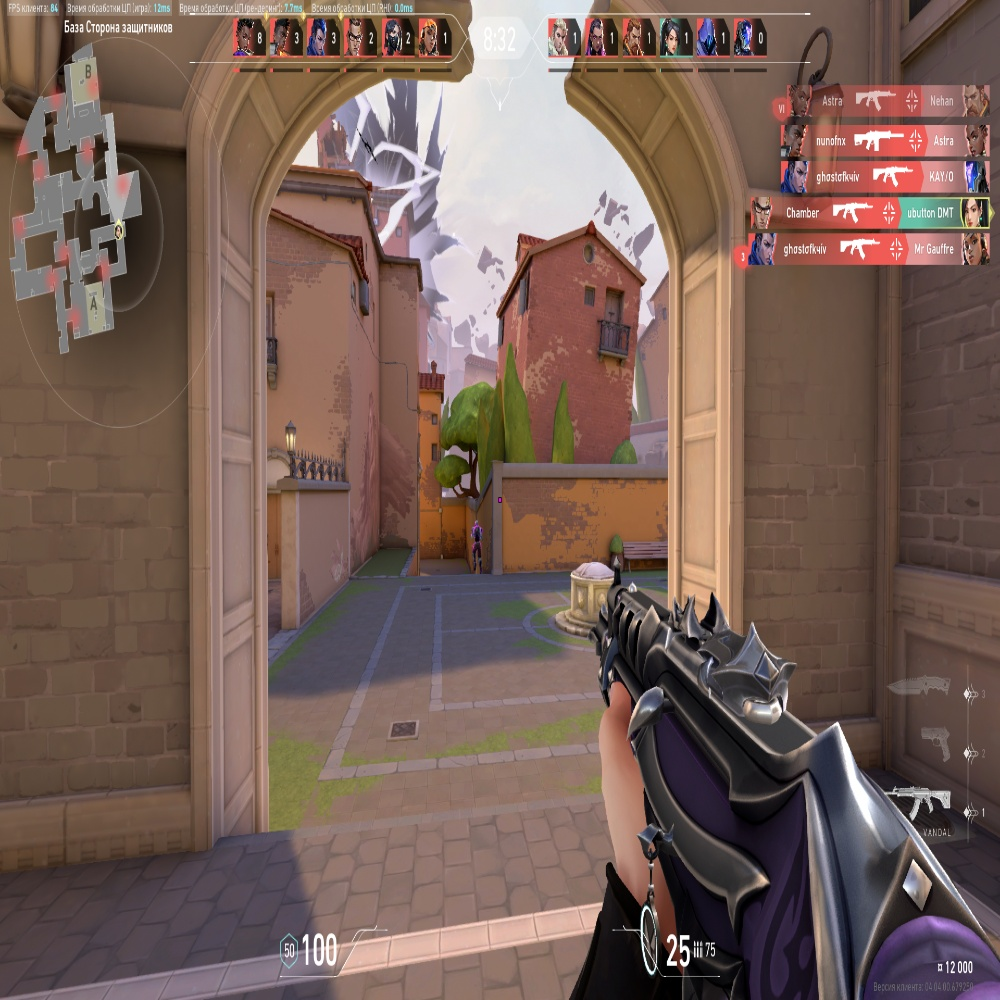body: (472, 528, 482, 543)
head: (475, 520, 479, 527)
